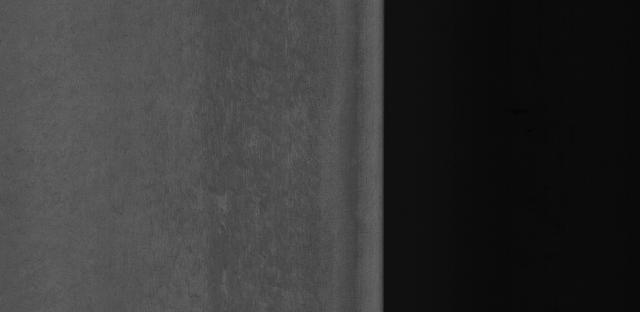silk_spot: (202, 72, 333, 199)
